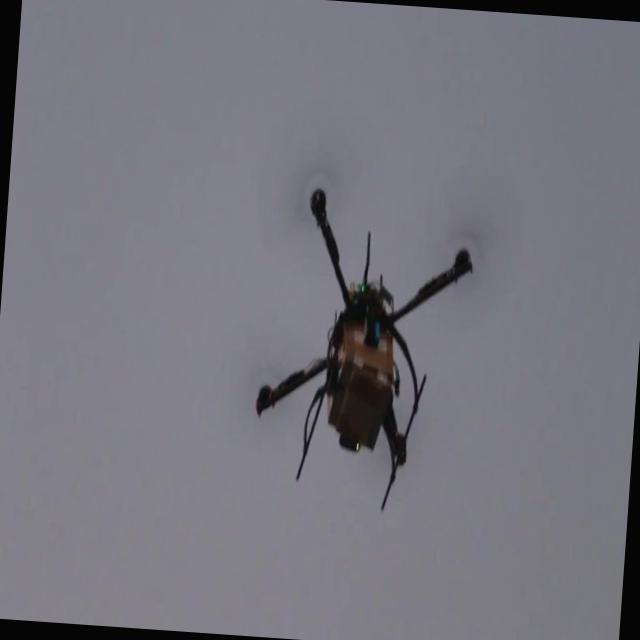drone: (247, 182, 477, 519)
